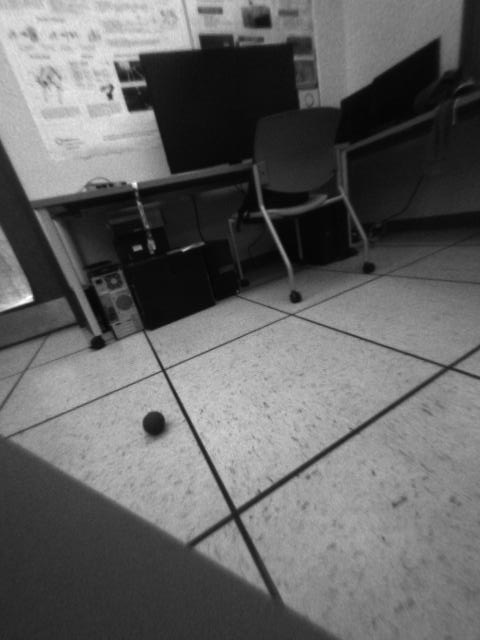dogtoy: (135, 401, 174, 442)
